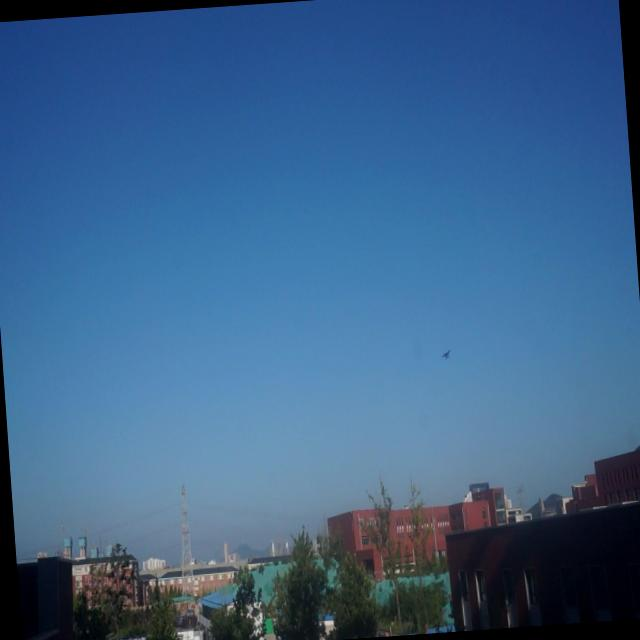drone: (438, 344, 453, 363)
